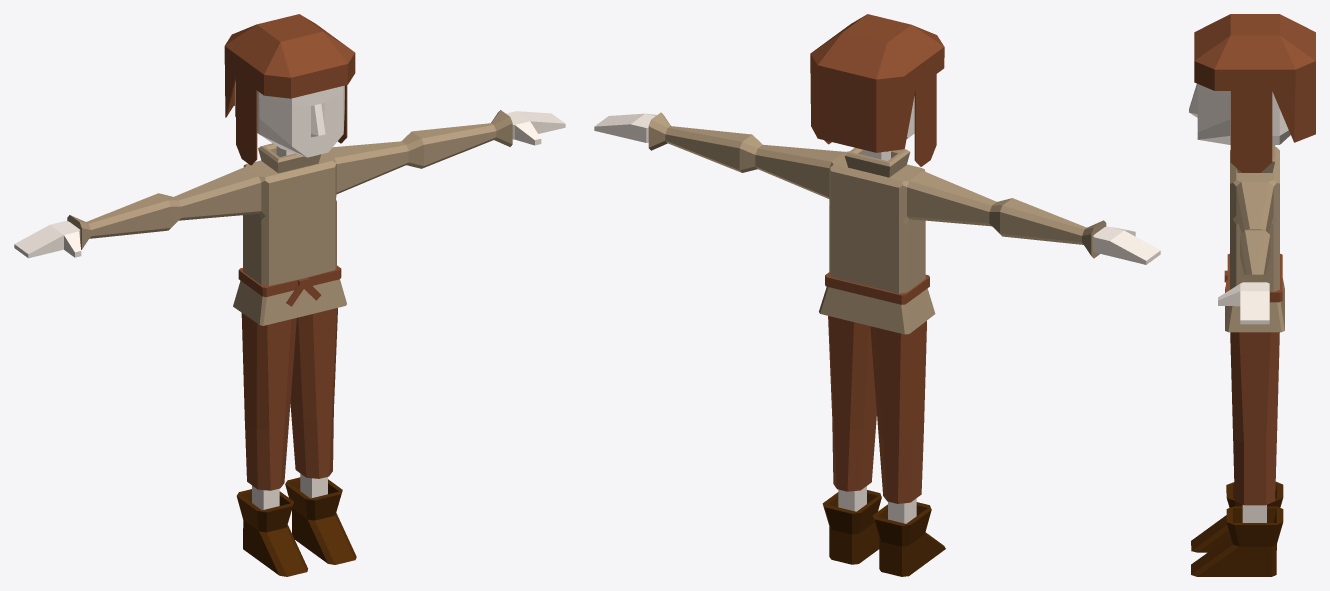
Rendered from Rory.fbx.
3 renders of one model, left to right at view 1: azimuth 30°, elevation 25°; view 2: azimuth 150°, elevation 25°; view 3: azimuth 270°, elevation 25°, orthographic. The views are drawn at different scales.
Visible parts, largest first — view 1: 3; view 2: 3; view 3: 3.
Part boxes in pixels (x1=…): 3: x1=14, y1=14, x2=565, y2=576; 3: x1=594, y1=14, x2=1160, y2=576; 3: x1=1189, y1=14, x2=1315, y2=576.
Bounding box in the file's own units: 424 × 390 × 84.24.
